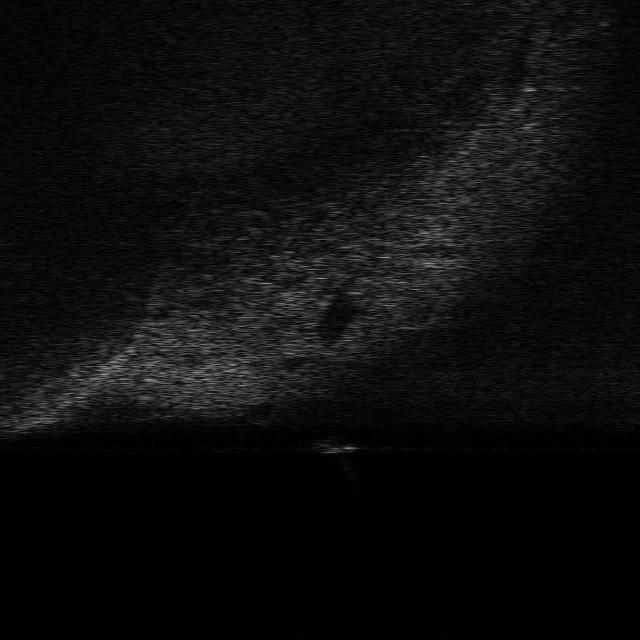cube: (312, 436, 368, 456)
